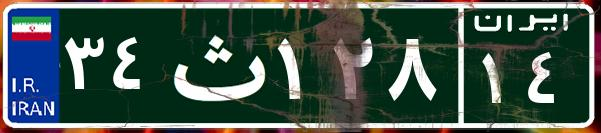1: (273, 28, 330, 110), (475, 38, 525, 113)
2: (330, 28, 385, 110)
3: (57, 26, 110, 107)
4: (110, 28, 158, 105), (525, 38, 570, 115)
8: (385, 28, 445, 110)
ث: (158, 15, 273, 115)
